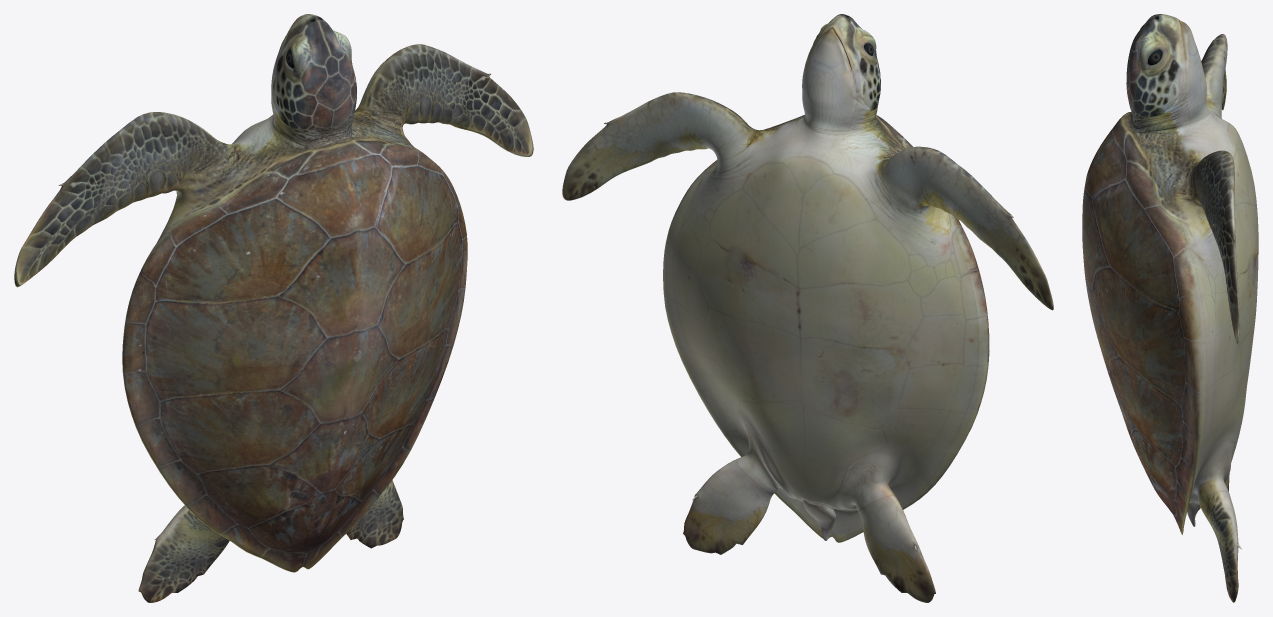
3 views of the same model, side by side, from view 1: azimuth 30°, elevation 25°; view 2: azimuth 150°, elevation 25°; view 3: azimuth 270°, elevation 25° (orthographic). The views are drawn at different scales.
Visible parts, largest first — view 1: green_juvenile_mesh_greenbody_0; view 2: green_juvenile_mesh_greenbody_0; view 3: green_juvenile_mesh_greenbody_0.
Boxes of the visible parts, x1,y1,x2,y2 form: green_juvenile_mesh_greenbody_0: (14,14,533,602); green_juvenile_mesh_greenbody_0: (562,14,1053,602); green_juvenile_mesh_greenbody_0: (1082,14,1258,602).
Bounding box in the file's own units: 253 × 267 × 79.74.
Materials: 3 (2 with a texture image).
